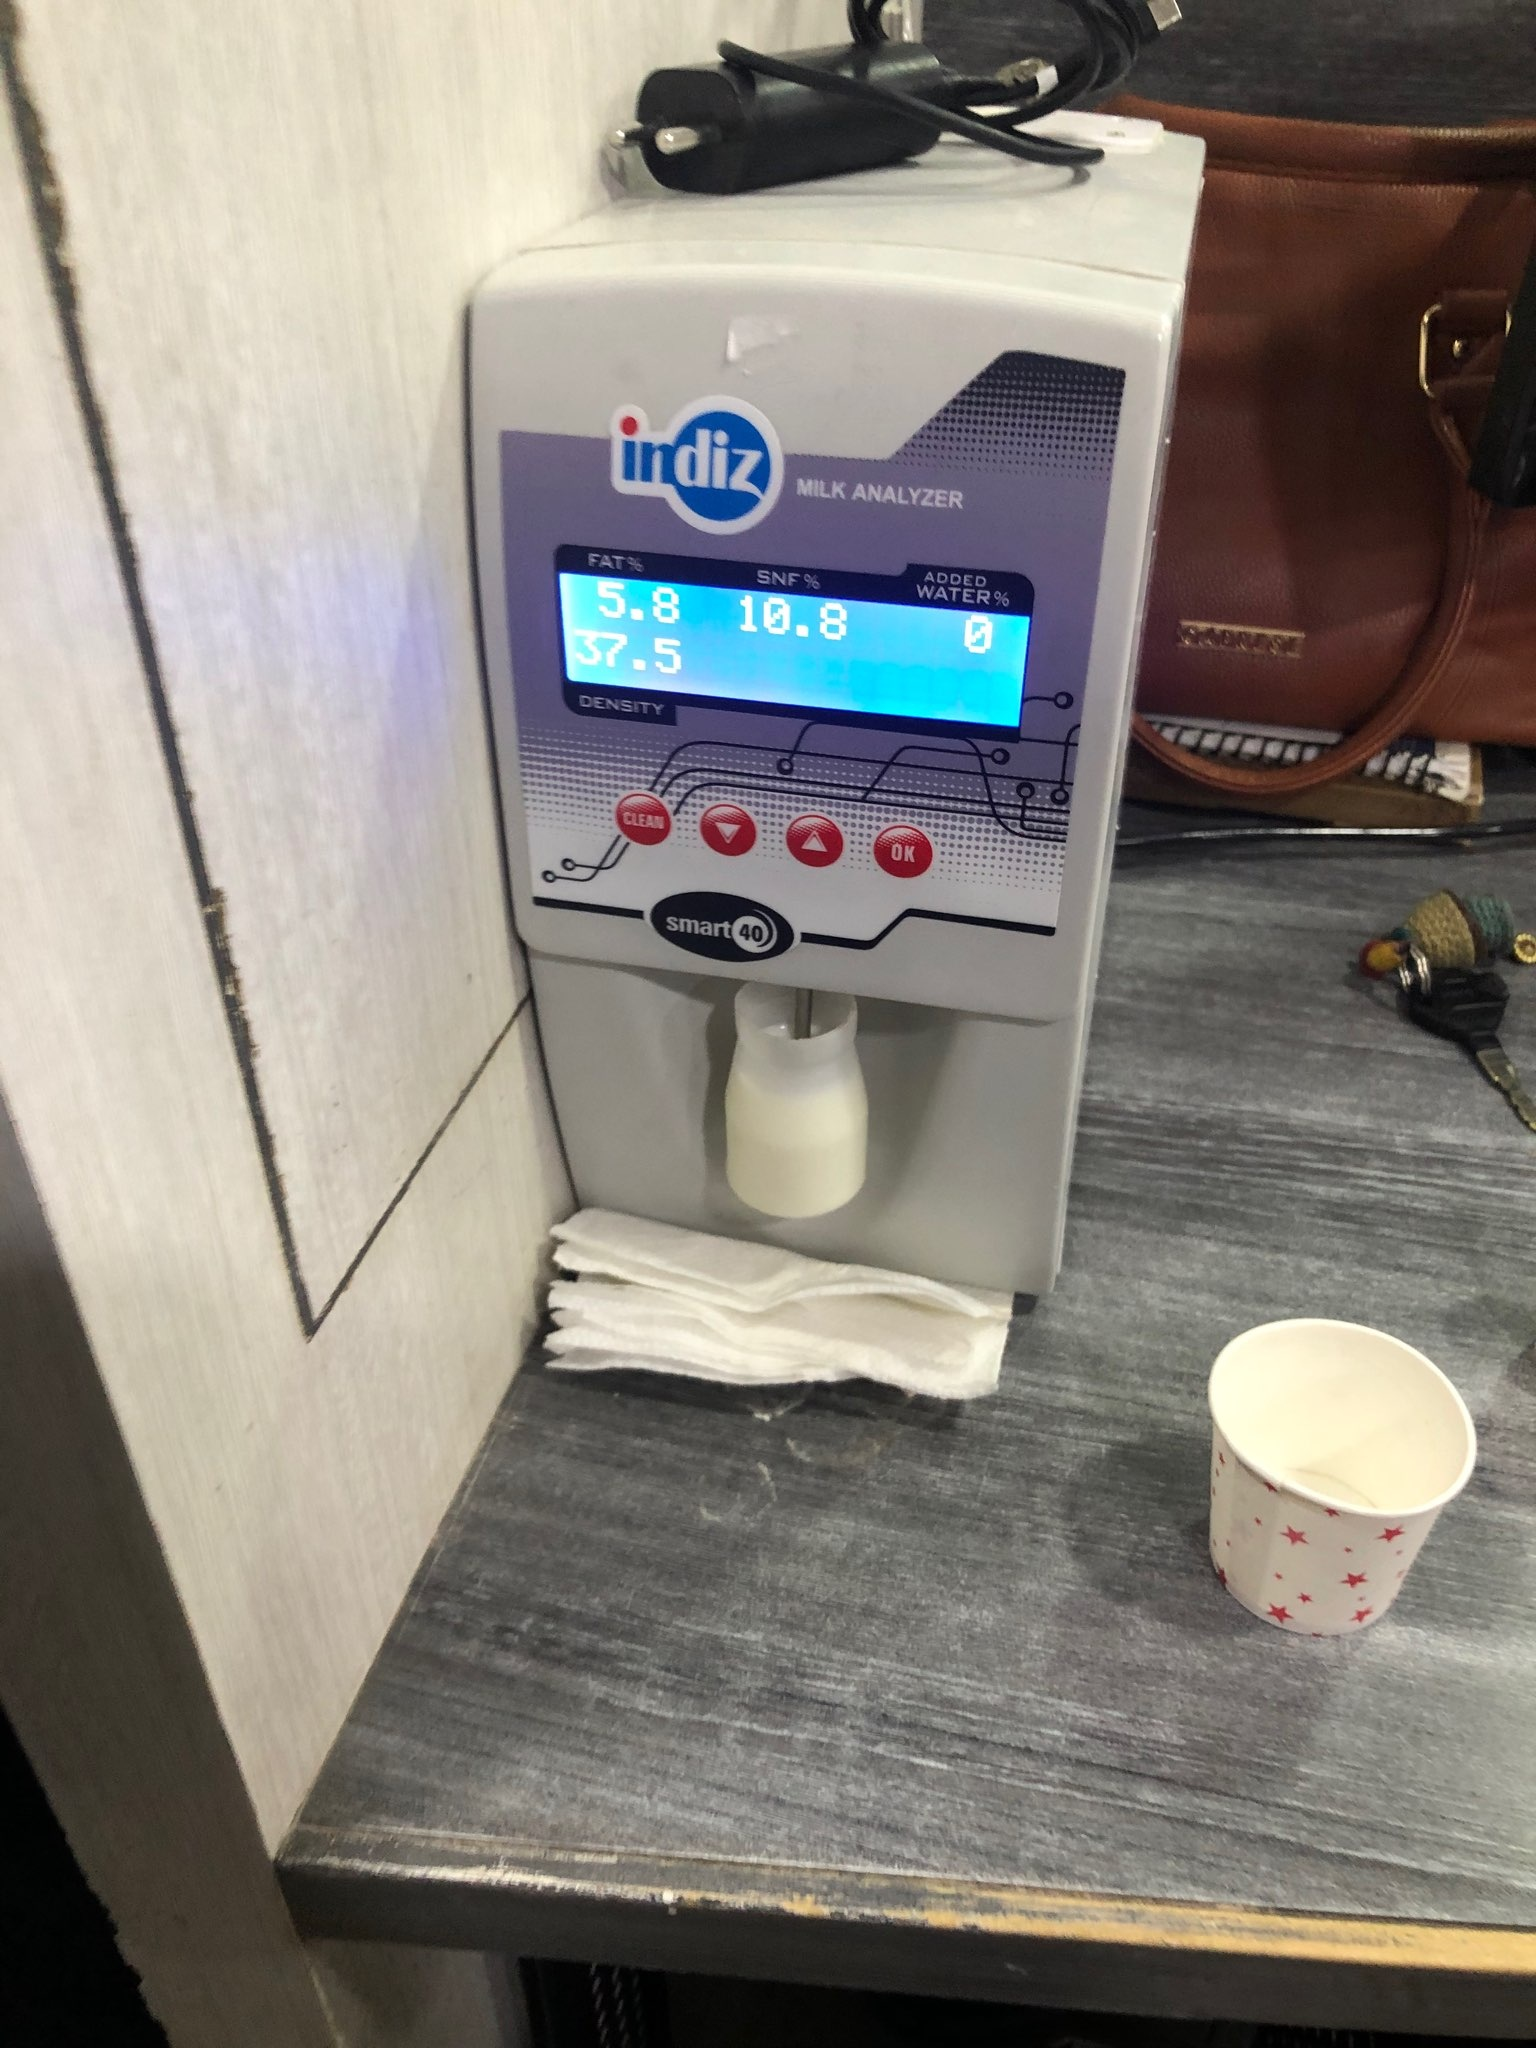lcd: (547, 519, 1041, 758)
